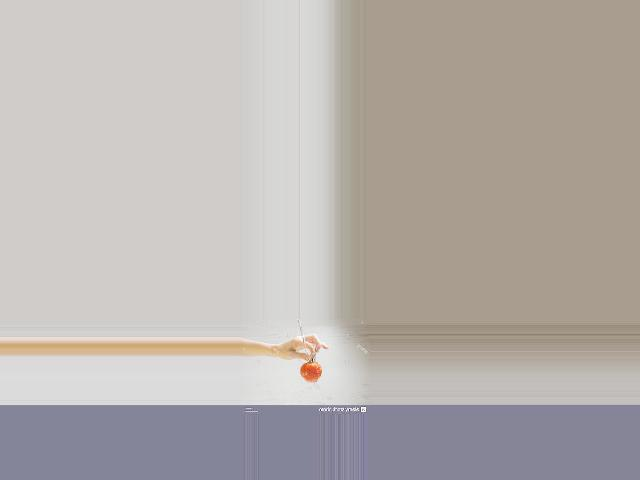tomato: (298, 362, 320, 383)
